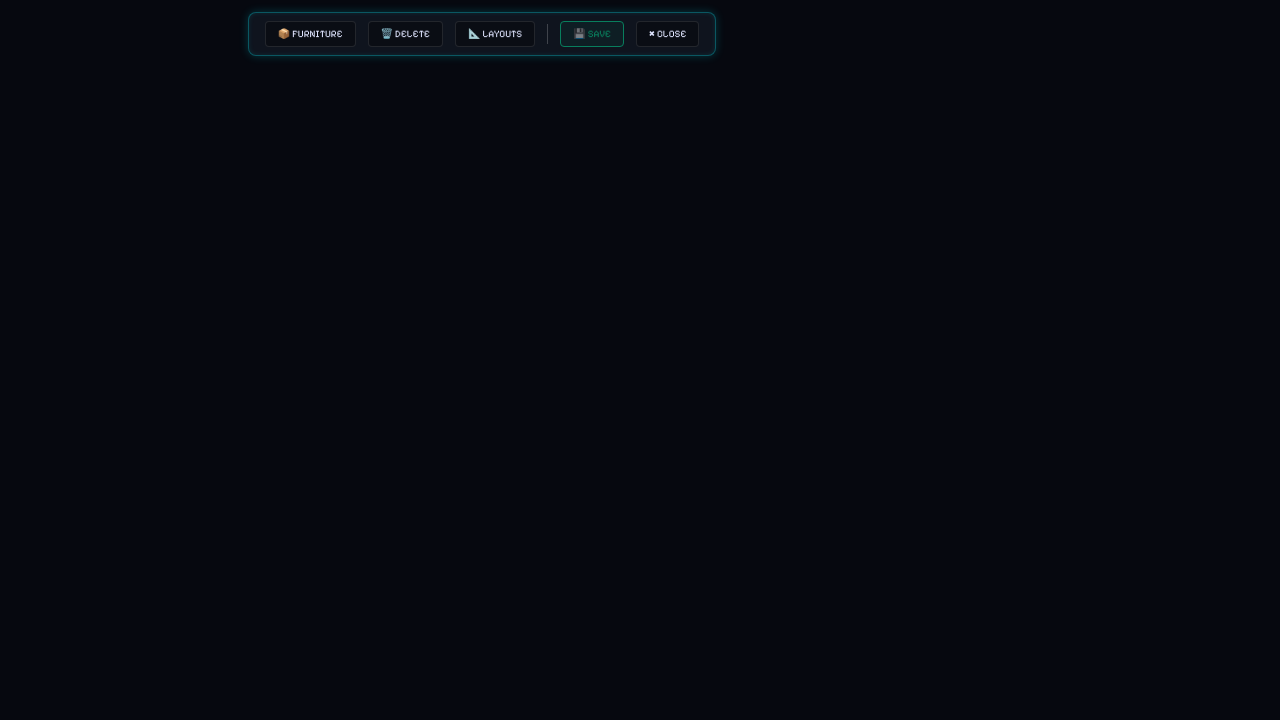
it: LayoutEditor searchable furniture palette › registers its empty live region before opening and preserves it across filtered panel reopening
Click the button titled "Furniture palette": point(310, 34) [265,21,356,47]
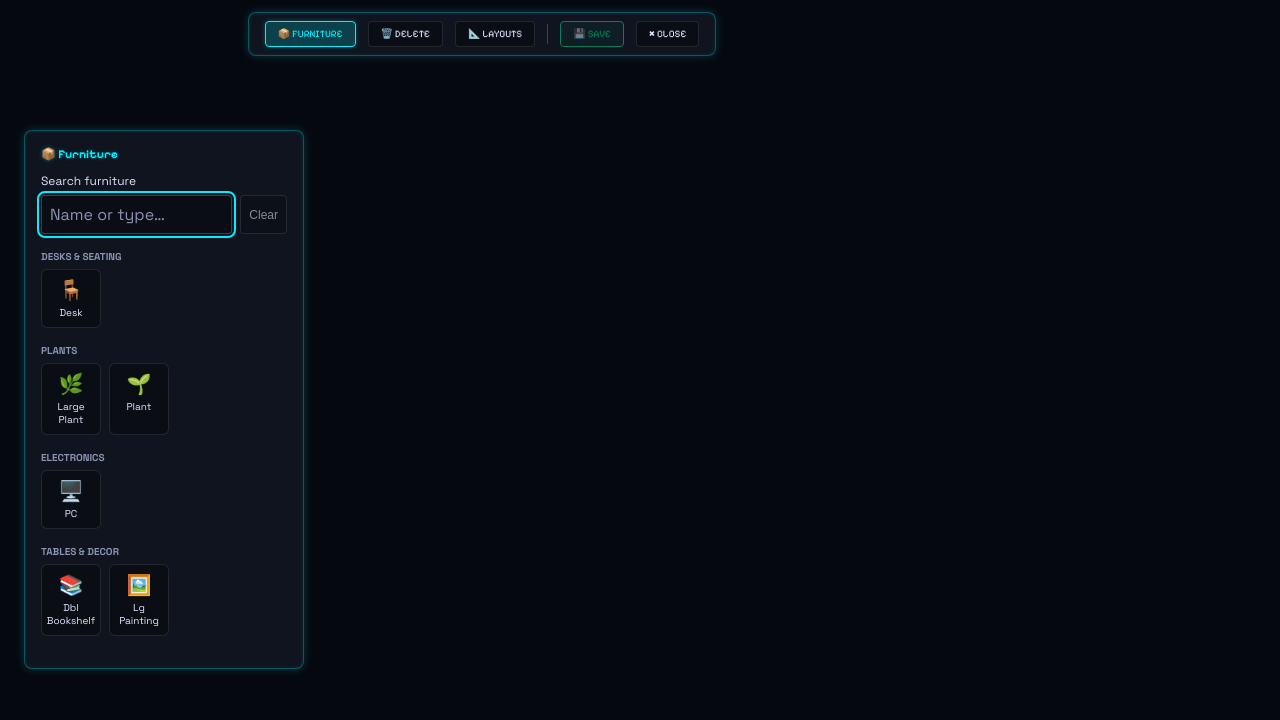
In the search field labelled "Search furniture": point(137, 214) [41,195,232,234], type "does not exist"
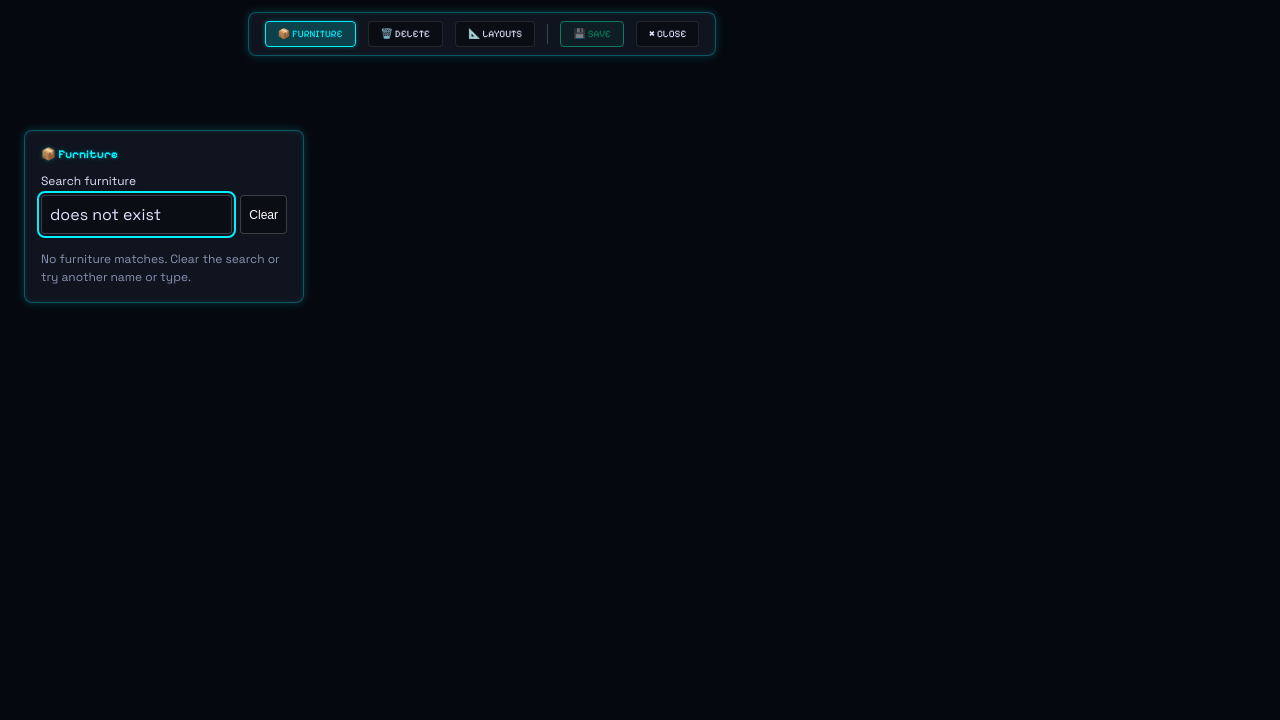
Click the button titled "Layout manager": point(495, 34) [455,21,535,47]
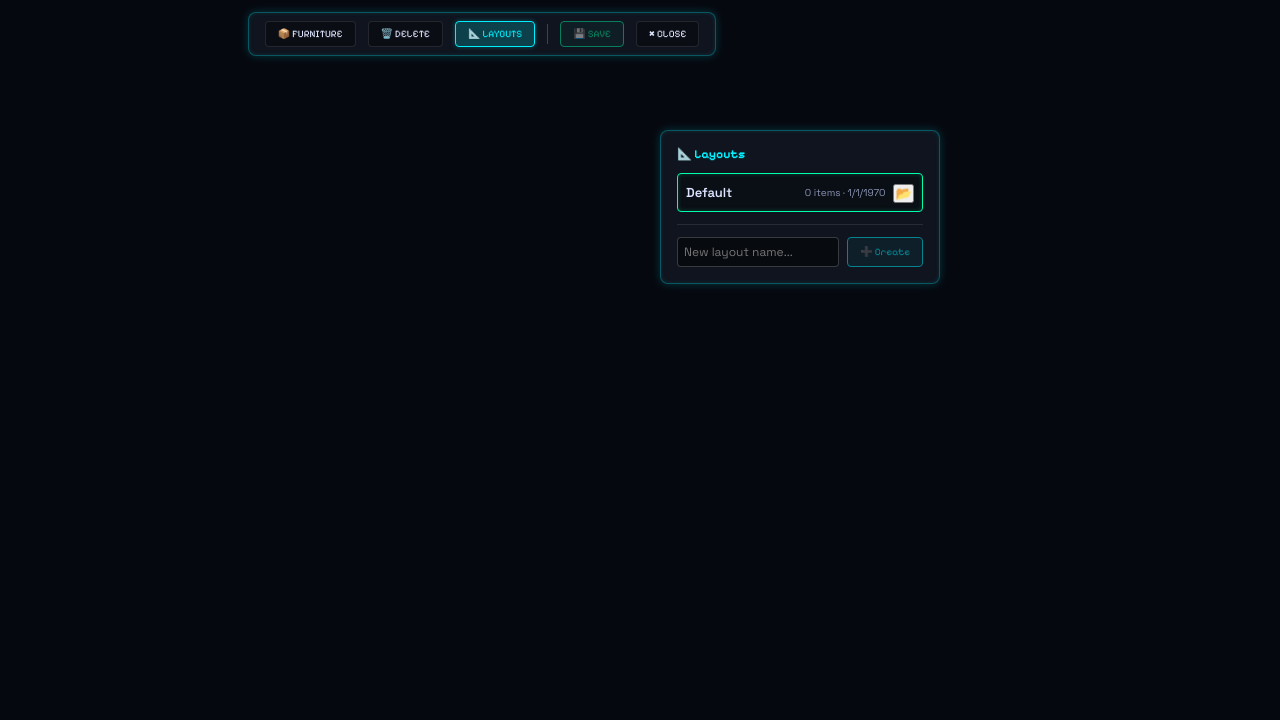
Click the button titled "Furniture palette": point(310, 34) [265,21,356,47]
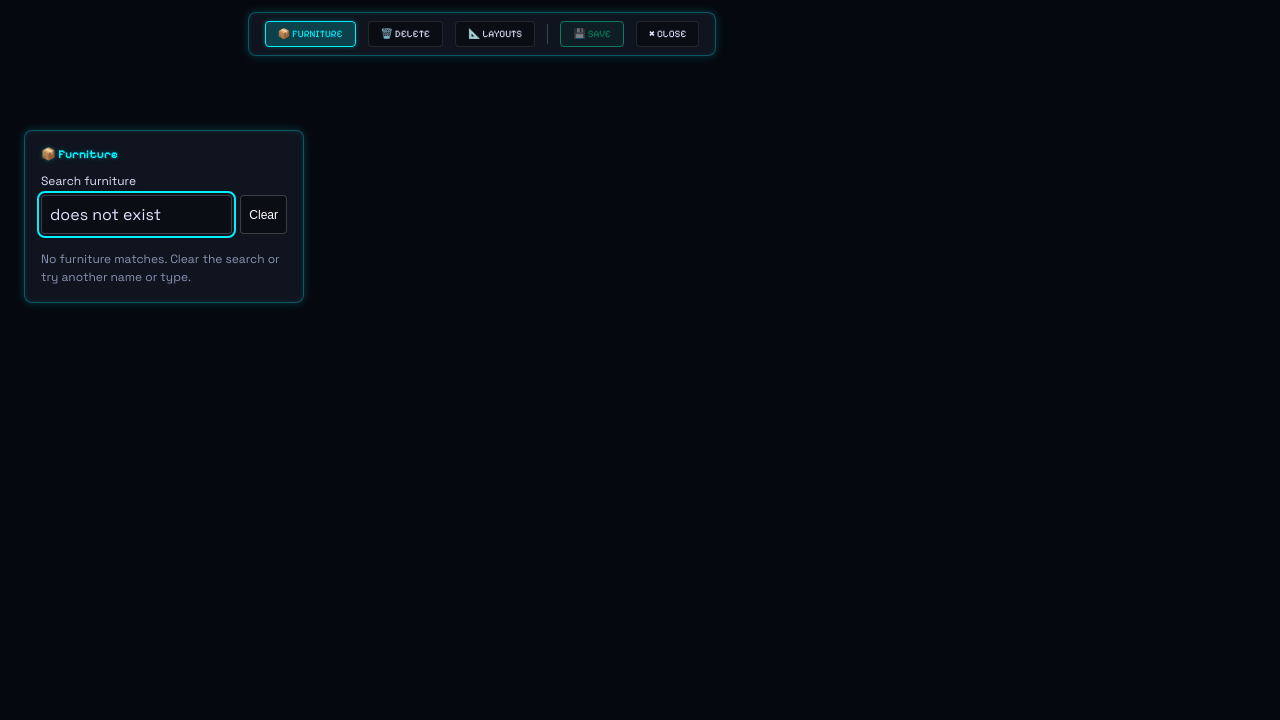
Now the search field labelled "Search furniture" holds "does not exist", box [41,195,232,234]
